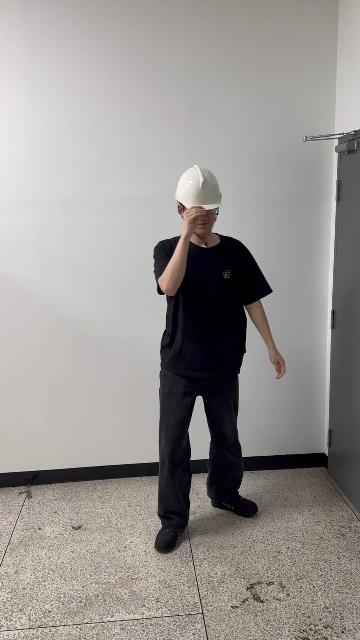helmet_worn: (174, 165, 223, 210)
shoe_worn: (211, 495, 258, 517), (154, 524, 186, 553)
vest_not_worn: (153, 232, 247, 382)
